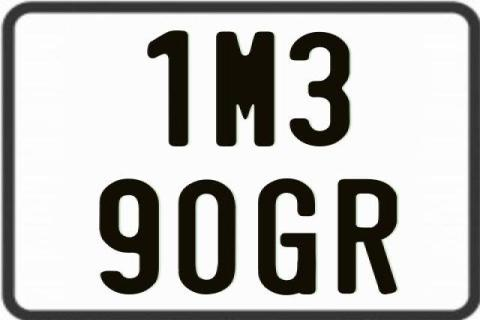0: (98, 177, 159, 297), (175, 177, 236, 295), (290, 31, 350, 147), (146, 28, 188, 148)
G: (255, 176, 316, 298)
M: (214, 31, 272, 149)
R: (336, 178, 400, 298)
